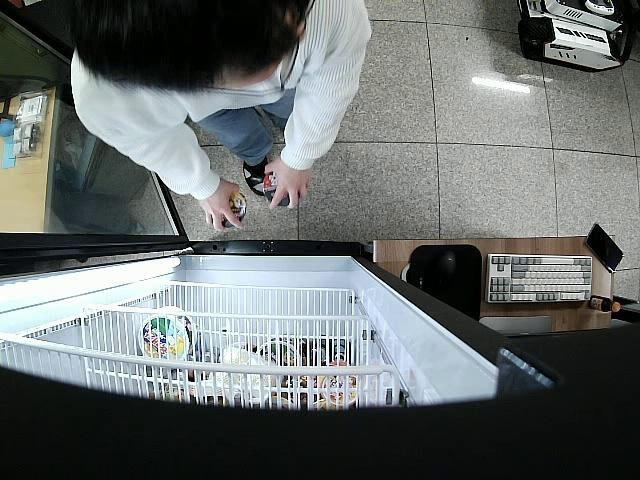08_buldak_S: (265, 174, 300, 206), (219, 192, 248, 226)
